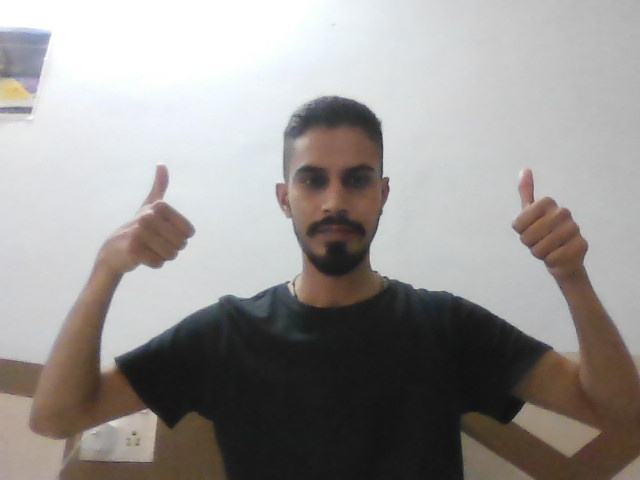ThumbsUp: (108, 157, 215, 277)
